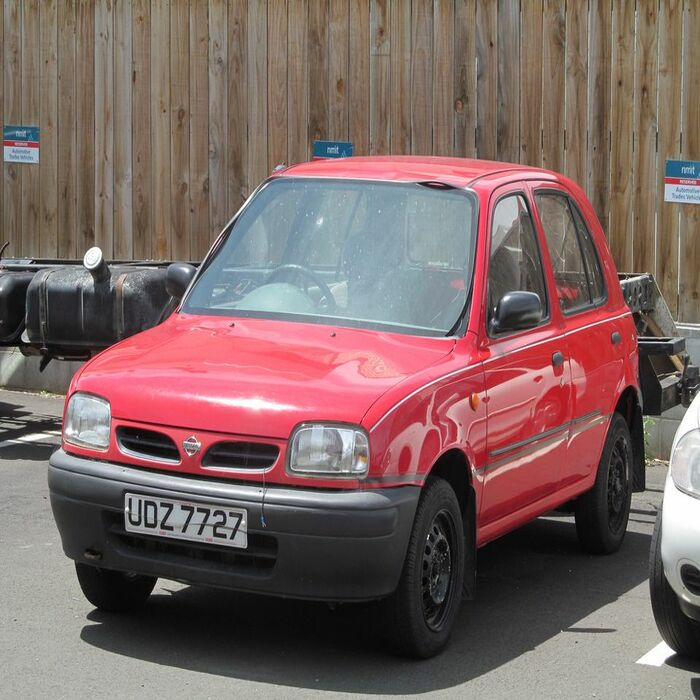n: (121, 491, 248, 554)
